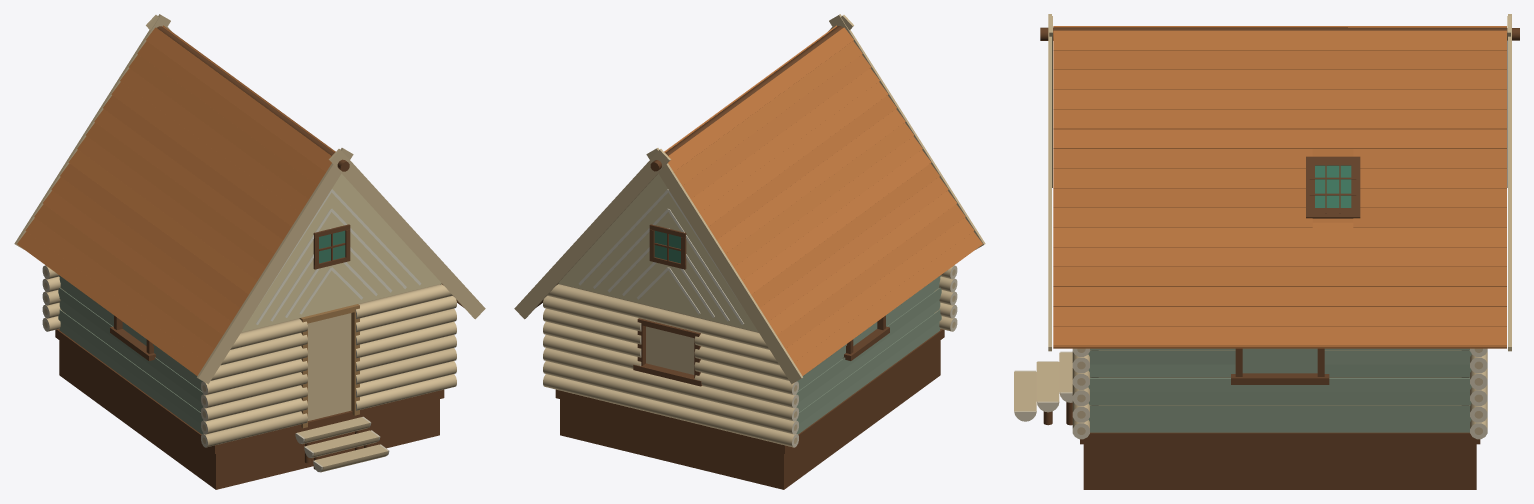
Rendered from guest_orange.glb.
3 renders of one model, left to right at view 1: azimuth 30°, elevation 25°; view 2: azimuth 150°, elevation 25°; view 3: azimuth 270°, elevation 25°, orthographic. The views are drawn at different scales.
Visible parts, largest first — view 1: guest_orange, guest_orange_far, guest_orange_pane; view 2: guest_orange, guest_orange_far, guest_orange_pane; view 3: guest_orange, guest_orange_far, guest_orange_pane.
Boxes of the visible parts, x1,y1,x2,y2 form: guest_orange: (14, 14, 485, 472); guest_orange_far: (59, 284, 439, 489); guest_orange_pane: (319, 230, 345, 263); guest_orange: (514, 14, 985, 453); guest_orange_far: (560, 284, 940, 489); guest_orange_pane: (654, 230, 680, 263); guest_orange: (1014, 14, 1519, 444); guest_orange_far: (1053, 27, 1506, 489); guest_orange_pane: (1315, 165, 1351, 207).
Bounding box in the file's own units: 5.51 × 5.93 × 6.69.
